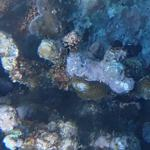dead: (2, 1, 145, 145)
